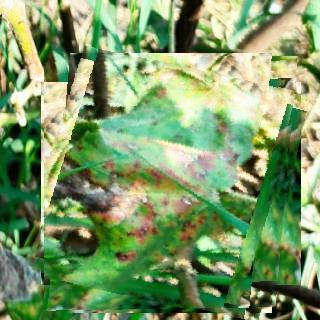blight: (44, 56, 298, 311)
